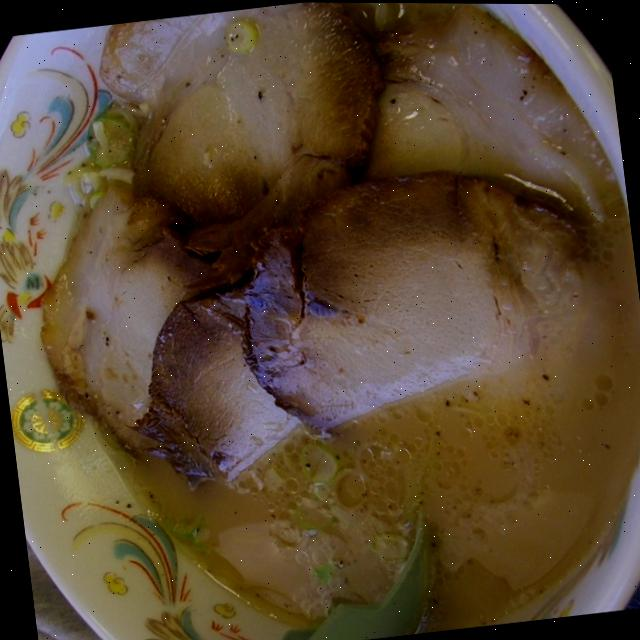面条主食: (22, 0, 640, 640)
